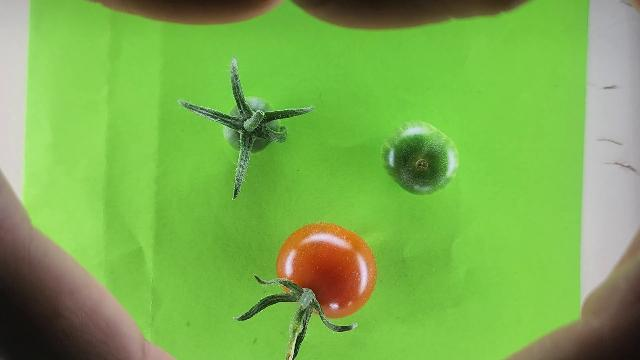Fruit Maturation: (381, 120, 460, 196), (223, 97, 280, 155)
Fully Grown: (274, 220, 379, 320)
